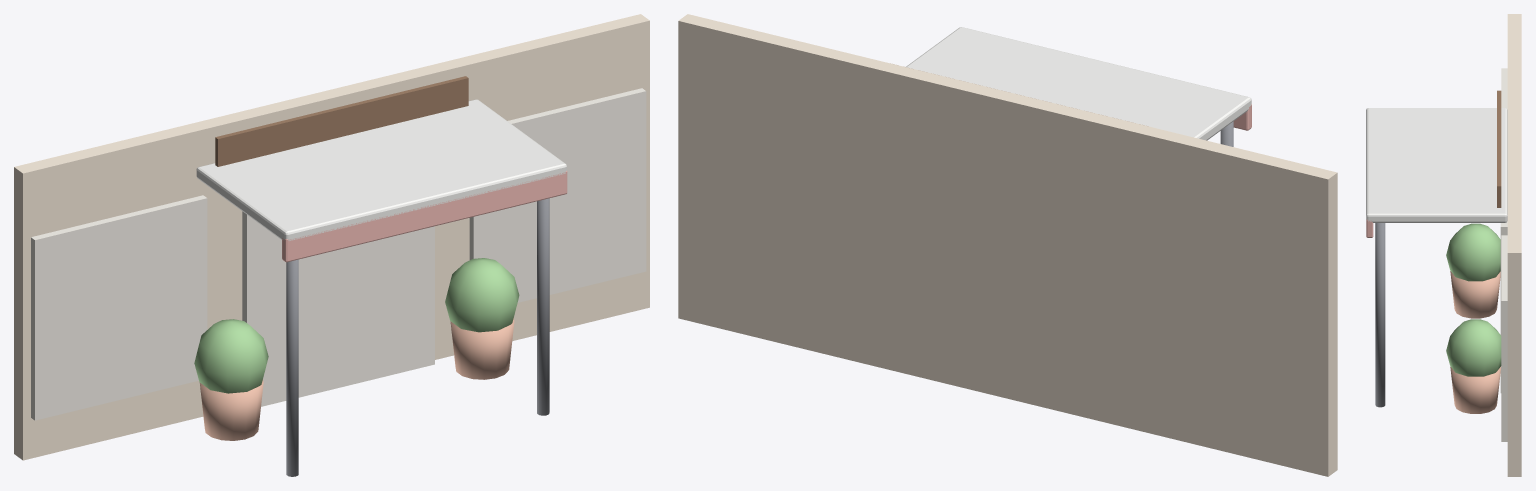
File: fachada_entrada.glb
3 renders of one model, left to right at view 1: azimuth 30°, elevation 25°; view 2: azimuth 150°, elevation 25°; view 3: azimuth 270°, elevation 25°, orthographic. The views are drawn at different scales.
Visible parts, largest first — view 1: fachada_entrada; view 2: fachada_entrada; view 3: fachada_entrada.
Part boxes in pixels (box(x1,y1,x2,y2)): fachada_entrada: box(14, 14, 649, 476); fachada_entrada: box(678, 14, 1337, 476); fachada_entrada: box(1366, 14, 1521, 476).
Size of the model in its own units: 8 by 3.5 by 2.2.
